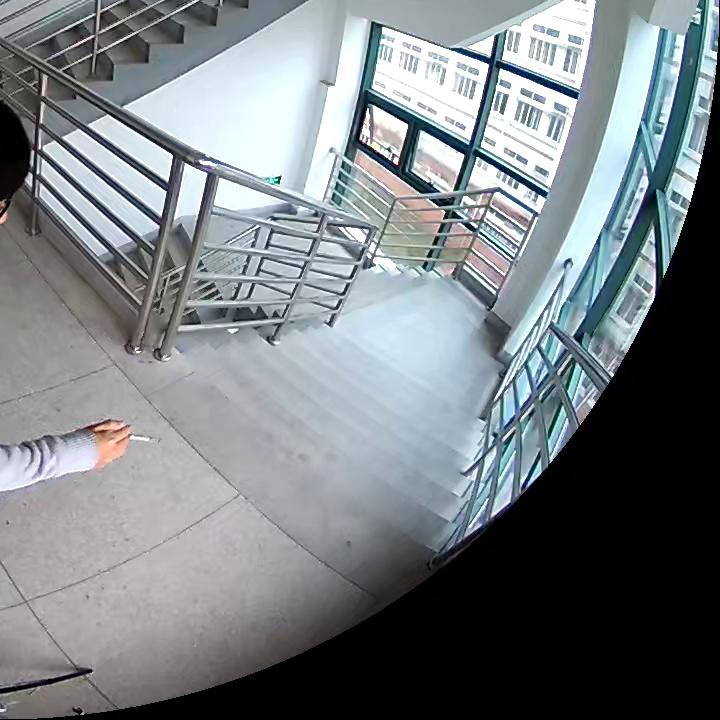handsmoke: (88, 420, 157, 470)
